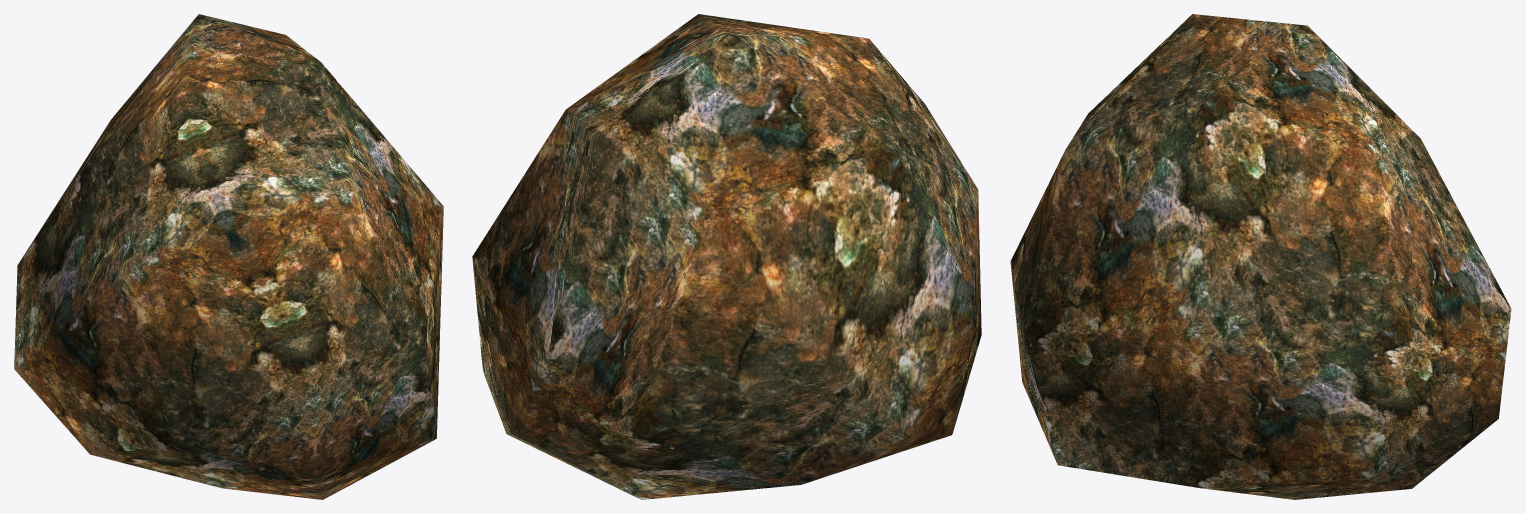
The model's file is c_stone12.glb.
3 renders of one model, left to right at view 1: azimuth 30°, elevation 25°; view 2: azimuth 150°, elevation 25°; view 3: azimuth 270°, elevation 25°, orthographic. The views are drawn at different scales.
Visible parts, largest first — view 1: c_stone12; view 2: c_stone12; view 3: c_stone12.
Part boxes in pixels (x1,y1,x2,y2): c_stone12: (14, 14, 443, 499); c_stone12: (472, 14, 981, 499); c_stone12: (1010, 14, 1511, 499).
Bounding box in the file's own units: 0.8626 × 0.8751 × 0.9399.
Materials: 1 (1 with a texture image).
